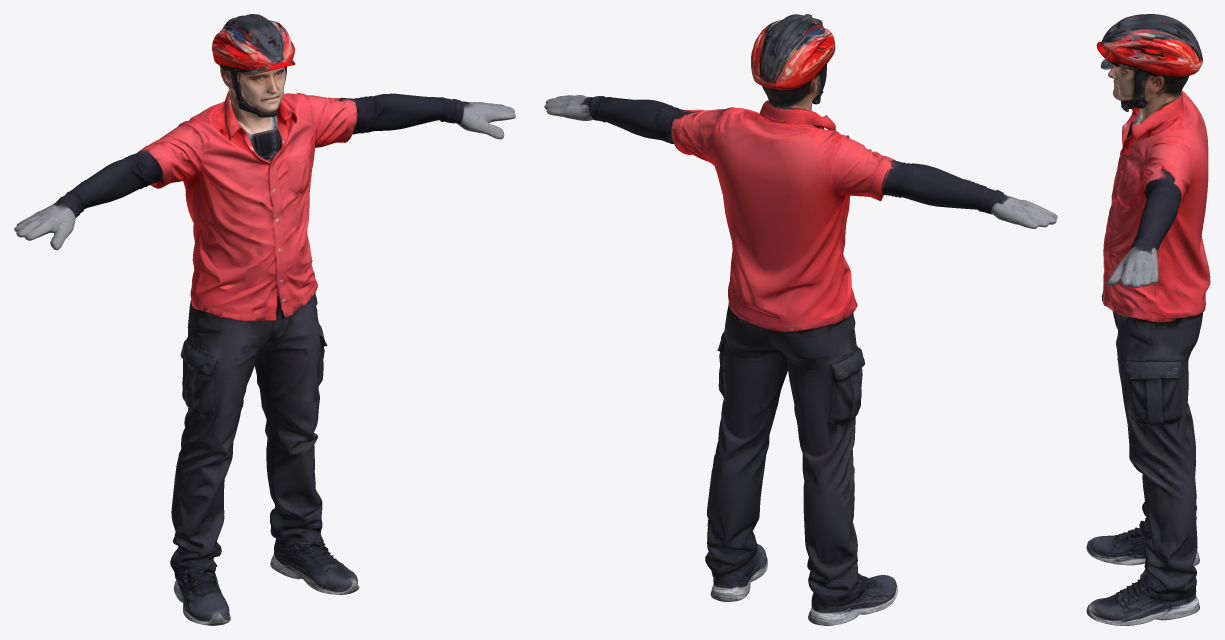
File: longq9.glb
3 renders of one model, left to right at view 1: azimuth 30°, elevation 25°; view 2: azimuth 150°, elevation 25°; view 3: azimuth 270°, elevation 25°, orthographic.
Parts seen in each view (by area): view 1: Mesh_0; view 2: Mesh_0; view 3: Mesh_0.
Part boxes in pixels (x1=…): Mesh_0: x1=14, y1=14, x2=515, y2=625; Mesh_0: x1=544, y1=14, x2=1057, y2=625; Mesh_0: x1=1086, y1=14, x2=1210, y2=625.
Bounding box in the file's own units: 1.05 × 1.15 × 0.2273.
1 material, 1 textured.
